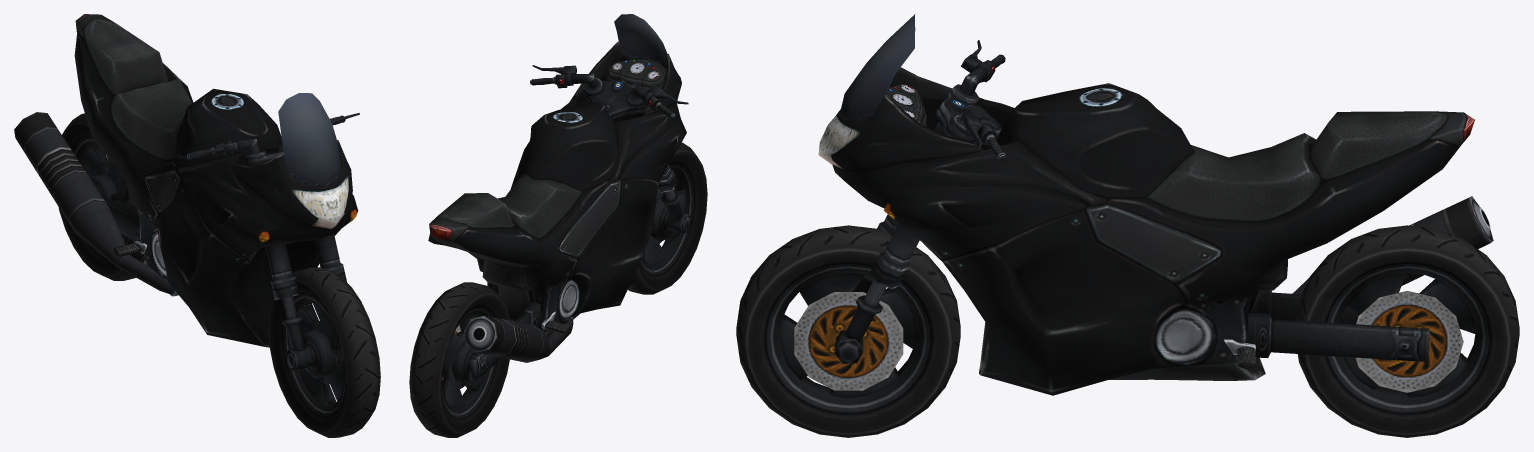
Rendered from Motorbike.fbx.
3 renders of one model, left to right at view 1: azimuth 30°, elevation 25°; view 2: azimuth 150°, elevation 25°; view 3: azimuth 270°, elevation 25°, orthographic. The views are drawn at different scales.
Visible parts, largest first — view 1: Motorbike; view 2: Motorbike; view 3: Motorbike.
Boxes of the visible parts, bbox=[...] form: Motorbike: bbox=[14, 14, 380, 437]; Motorbike: bbox=[409, 14, 707, 437]; Motorbike: bbox=[736, 14, 1519, 437].
Bounding box in the file's own units: 80.58 × 144 × 246.
